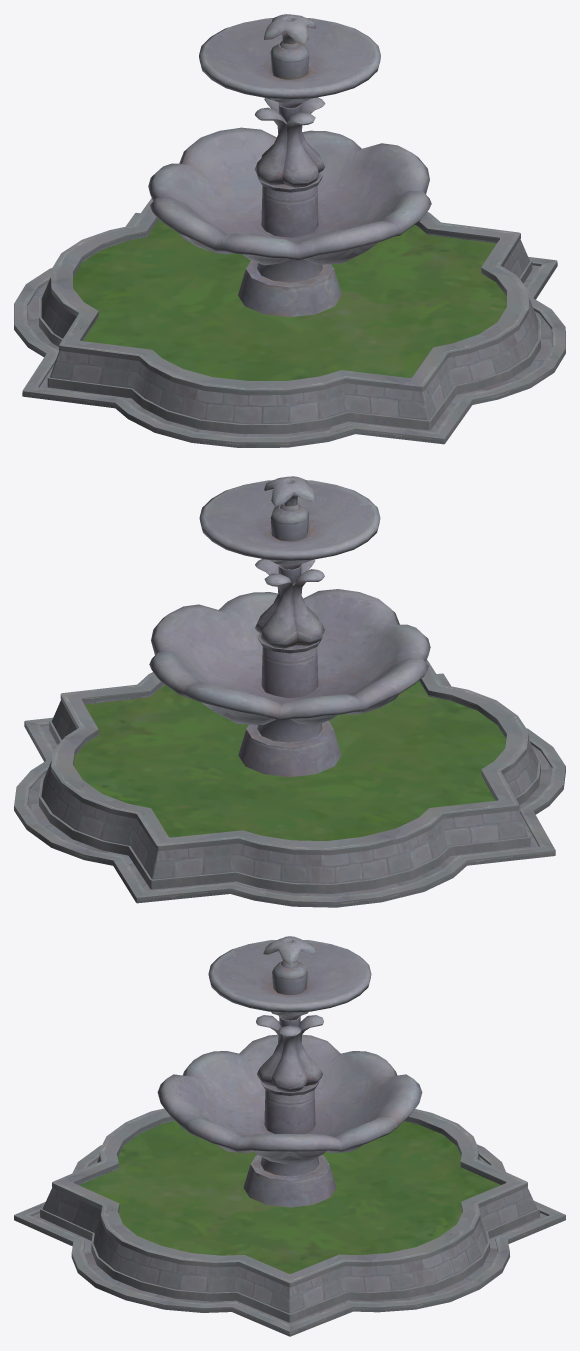
Rendered from Homeworld_Exterior_Common_Build_Decoration_Greenfountain_01_C_Lod0.fbx.
3 renders of one model, top to bottom at view 1: azimuth 30°, elevation 25°; view 2: azimuth 150°, elevation 25°; view 3: azimuth 270°, elevation 25°, orthographic. The views are drawn at different scales.
Visible parts, largest first — view 1: Homeworld_Exterior_Common_Build_Decoration_Greenfountain_01_; view 2: Homeworld_Exterior_Common_Build_Decoration_Greenfountain_01_; view 3: Homeworld_Exterior_Common_Build_Decoration_Greenfountain_01_.
Part boxes in pixels (<box>): Homeworld_Exterior_Common_Build_Decoration_Greenfountain_01_: <box>14,14,565,447</box>; Homeworld_Exterior_Common_Build_Decoration_Greenfountain_01_: <box>14,476,565,907</box>; Homeworld_Exterior_Common_Build_Decoration_Greenfountain_01_: <box>14,936,565,1336</box>.
Bounding box in the file's own units: 5.03 × 2.81 × 5.03.
